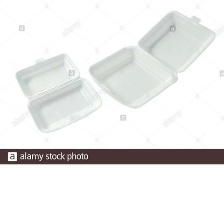foam_box: (84, 6, 220, 112), (11, 49, 105, 135)
